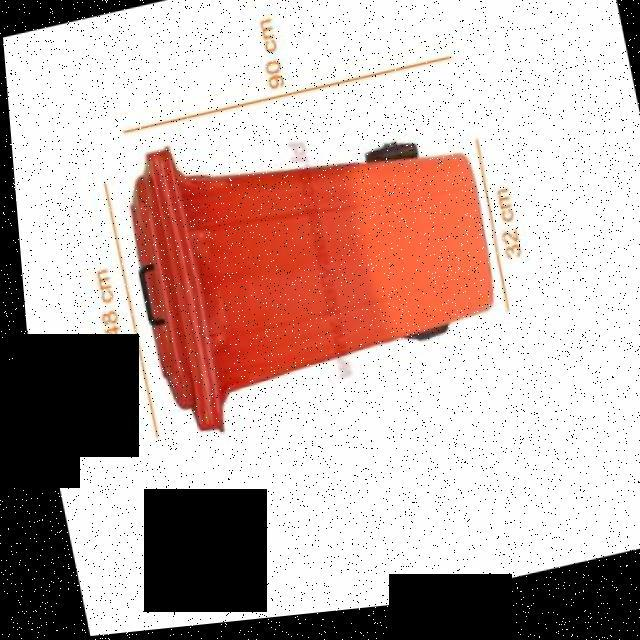bin: (99, 78, 511, 461)
